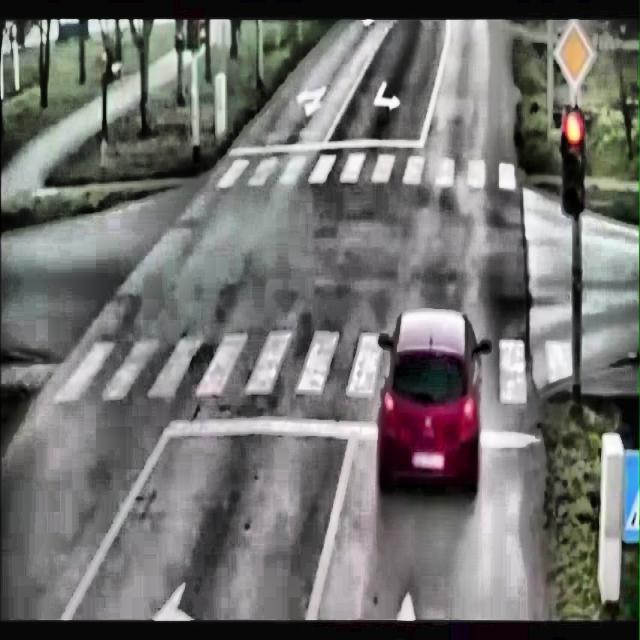red: (548, 98, 594, 224)
